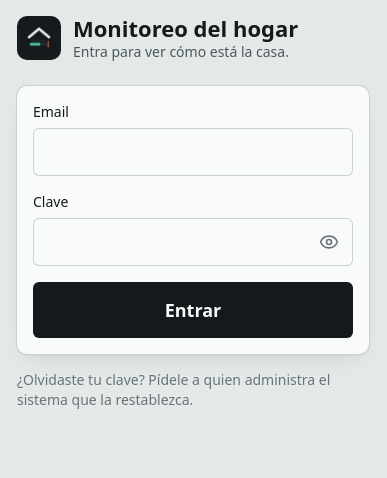
Test: Login sin datos › el botón no se apaga: al tocarlo dice qué falta junto a cada campo
Click the button "Entrar" at point(193, 310), box [33,282,353,338]
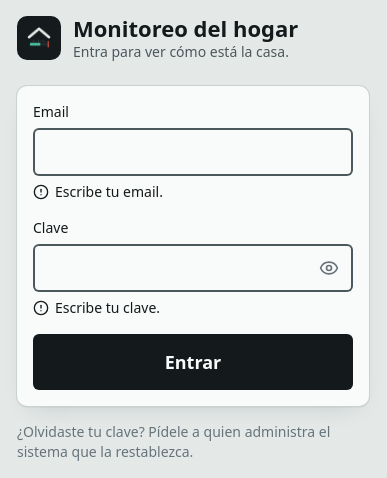
Check: the text "Escribe tu email." is shown, box [33,182,163,201]
Check: the text "Escribe tu clave." is shown, box [33,298,160,317]
